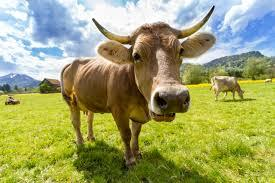cow: (60, 7, 217, 169), (209, 76, 245, 102)
